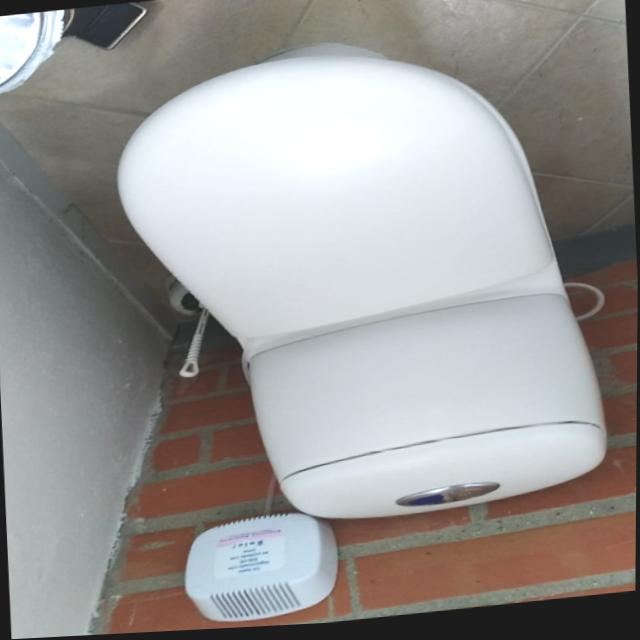toilet: (109, 21, 615, 548)
